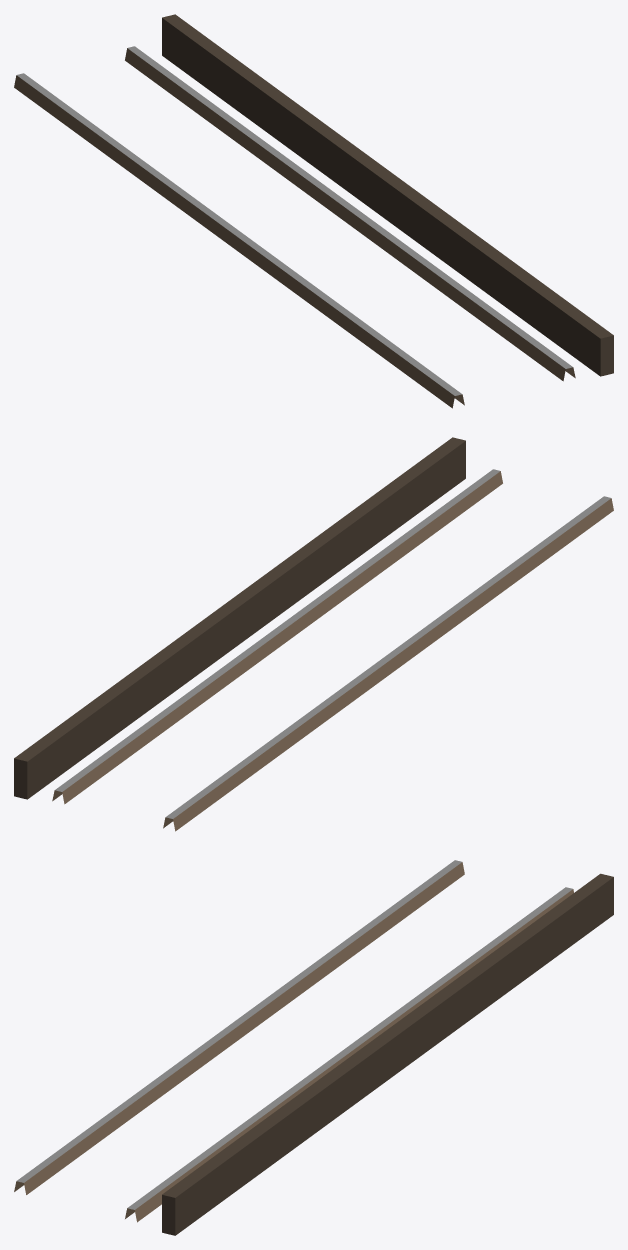
File: SW_ENV_TrackStraight_10m_Collision.fbx
3 renders of one model, top to bottom at view 1: azimuth 30°, elevation 25°; view 2: azimuth 150°, elevation 25°; view 3: azimuth 330°, elevation 25°, orthographic.
Parts seen in each view (by area): view 1: SW_ENV_TrackStraight_10m_Collision; view 2: SW_ENV_TrackStraight_10m_Collision; view 3: SW_ENV_TrackStraight_10m_Collision.
Boxes of the visible parts, x1,y1,x2,y2 form: SW_ENV_TrackStraight_10m_Collision: (14, 14, 613, 408); SW_ENV_TrackStraight_10m_Collision: (14, 437, 613, 831); SW_ENV_TrackStraight_10m_Collision: (14, 860, 613, 1235).
Bounding box in the file's own units: 212 × 47.71 × 1000.
